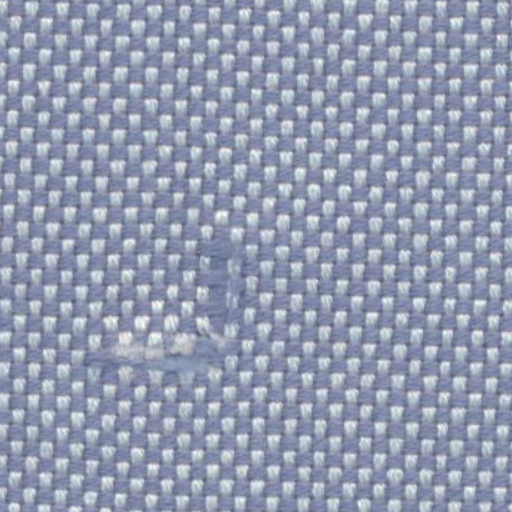PoDong: (80, 316, 248, 394)
